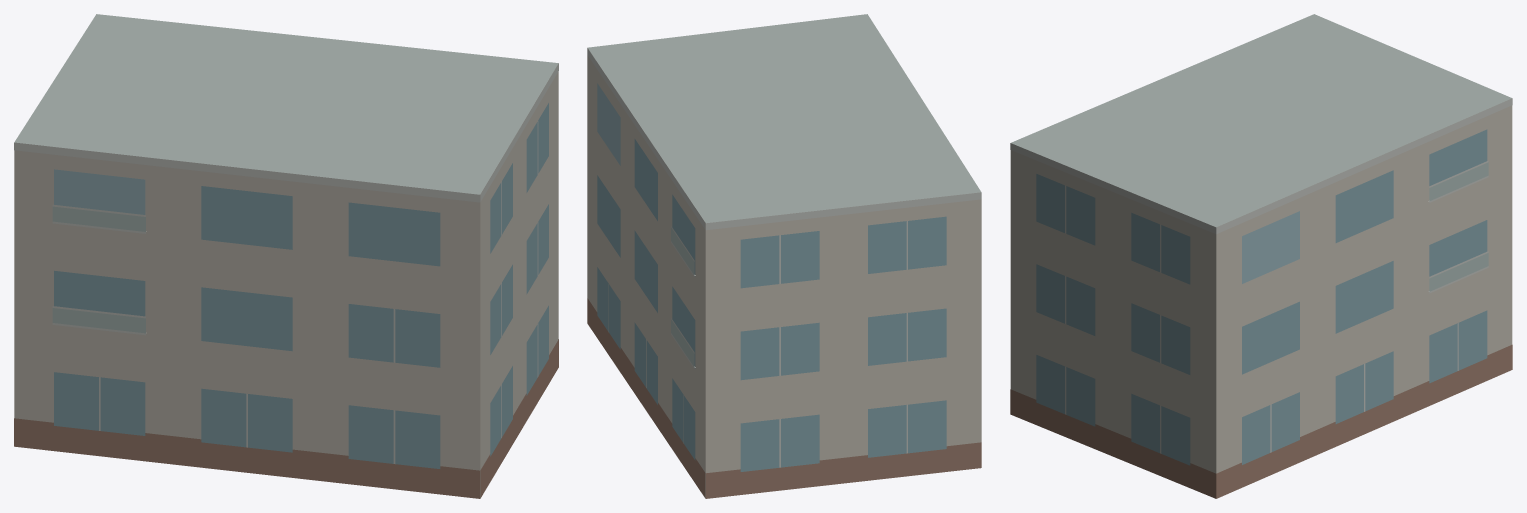
The model's file is survey-upis-32884205.glb.
3 renders of one model, left to right at view 1: azimuth 30°, elevation 25°; view 2: azimuth 150°, elevation 25°; view 3: azimuth 270°, elevation 25°, orthographic. The views are drawn at different scales.
Parts seen in each view (by area): view 1: survey-upis-32884205.tmp; view 2: survey-upis-32884205.tmp; view 3: survey-upis-32884205.tmp.
Part boxes in pixels (box(x1,y1,x2,y2)): survey-upis-32884205.tmp: box(14, 14, 558, 498); survey-upis-32884205.tmp: box(587, 14, 981, 498); survey-upis-32884205.tmp: box(1010, 14, 1512, 498).
Size of the model in its own units: 16.1 by 9.55 by 16.01.
